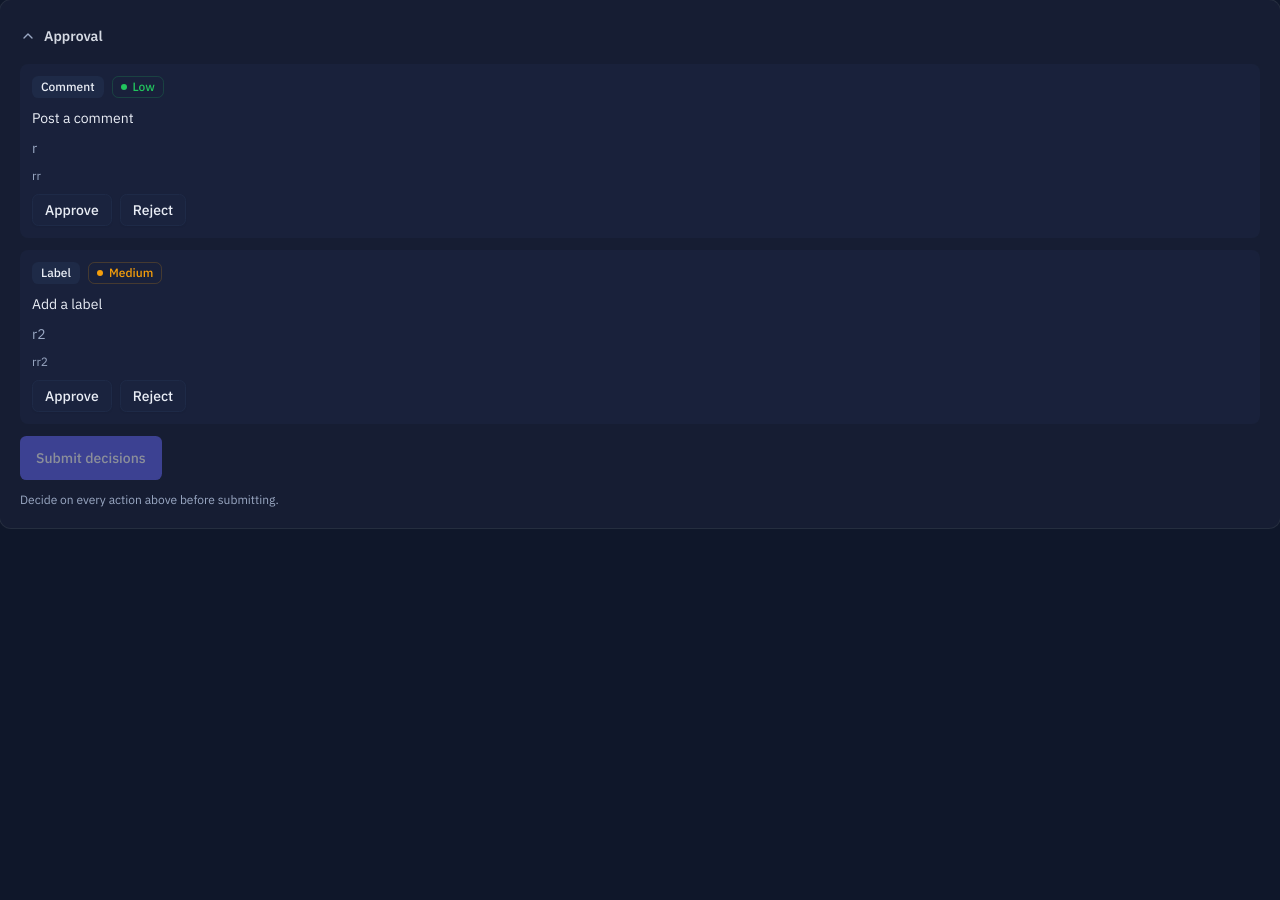
Test: ApprovalPanel › keeps Submit disabled until every queued action has a decision
Expected: the button "Submit decisions" is disabled, 20,436 -> 162,480
Click the button "Approve" below "Post a comment": [72, 210] box 32,194 -> 112,226
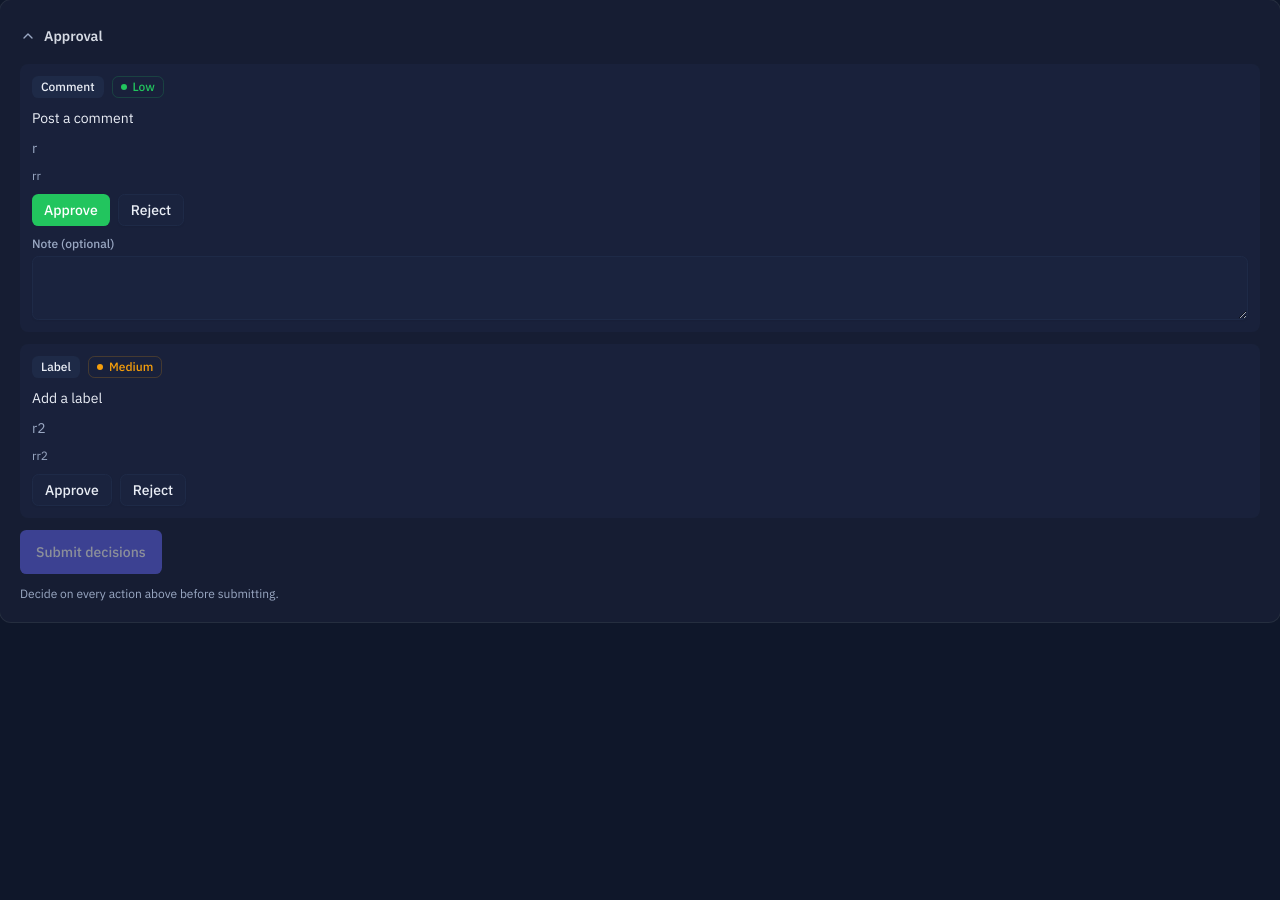
Expected: the button "Submit decisions" is disabled, 20,530 -> 162,574
Click the button "Reject" below "rr2": [153, 490] box 120,474 -> 186,506
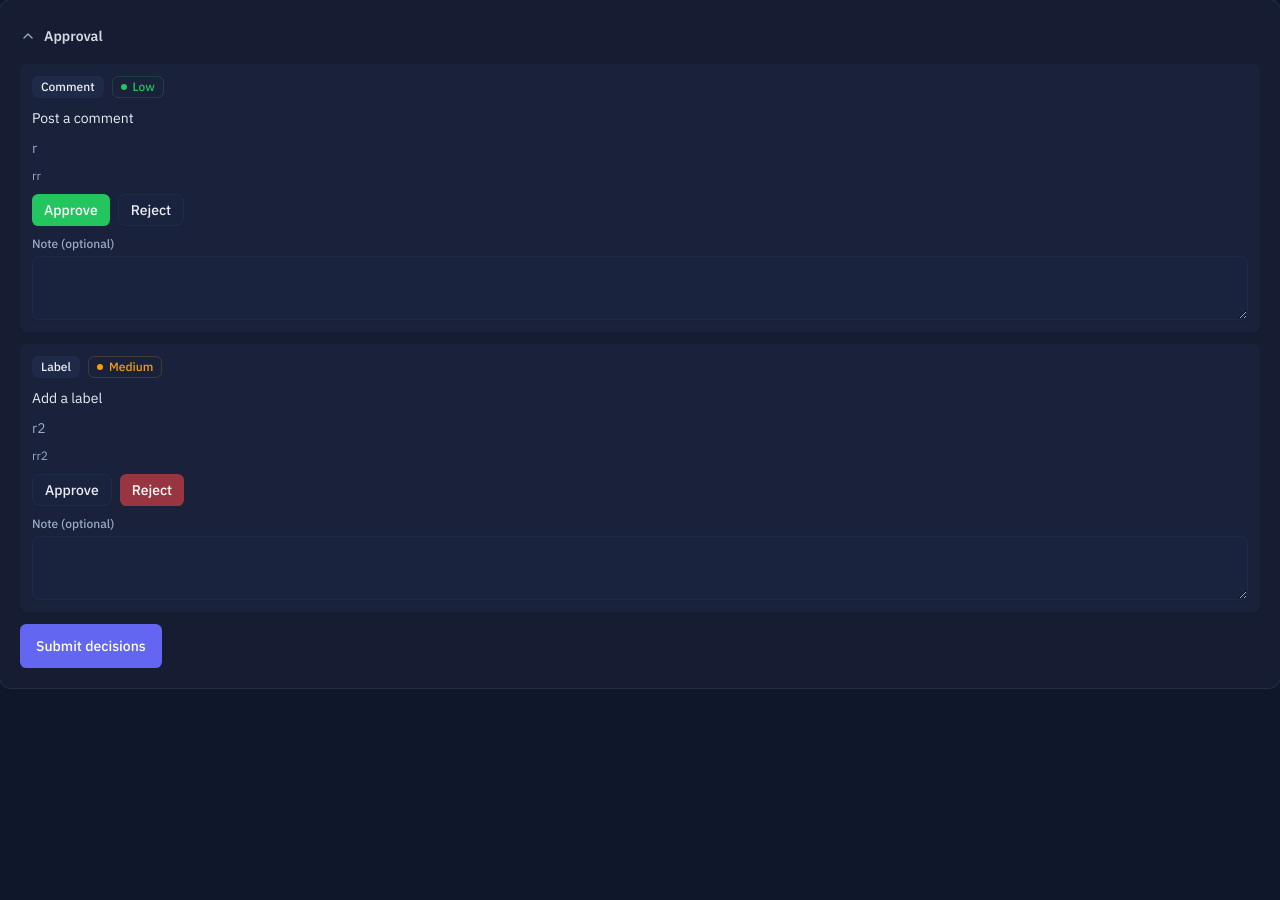
Now the button "Submit decisions" is enabled, box 20,624 -> 162,668
